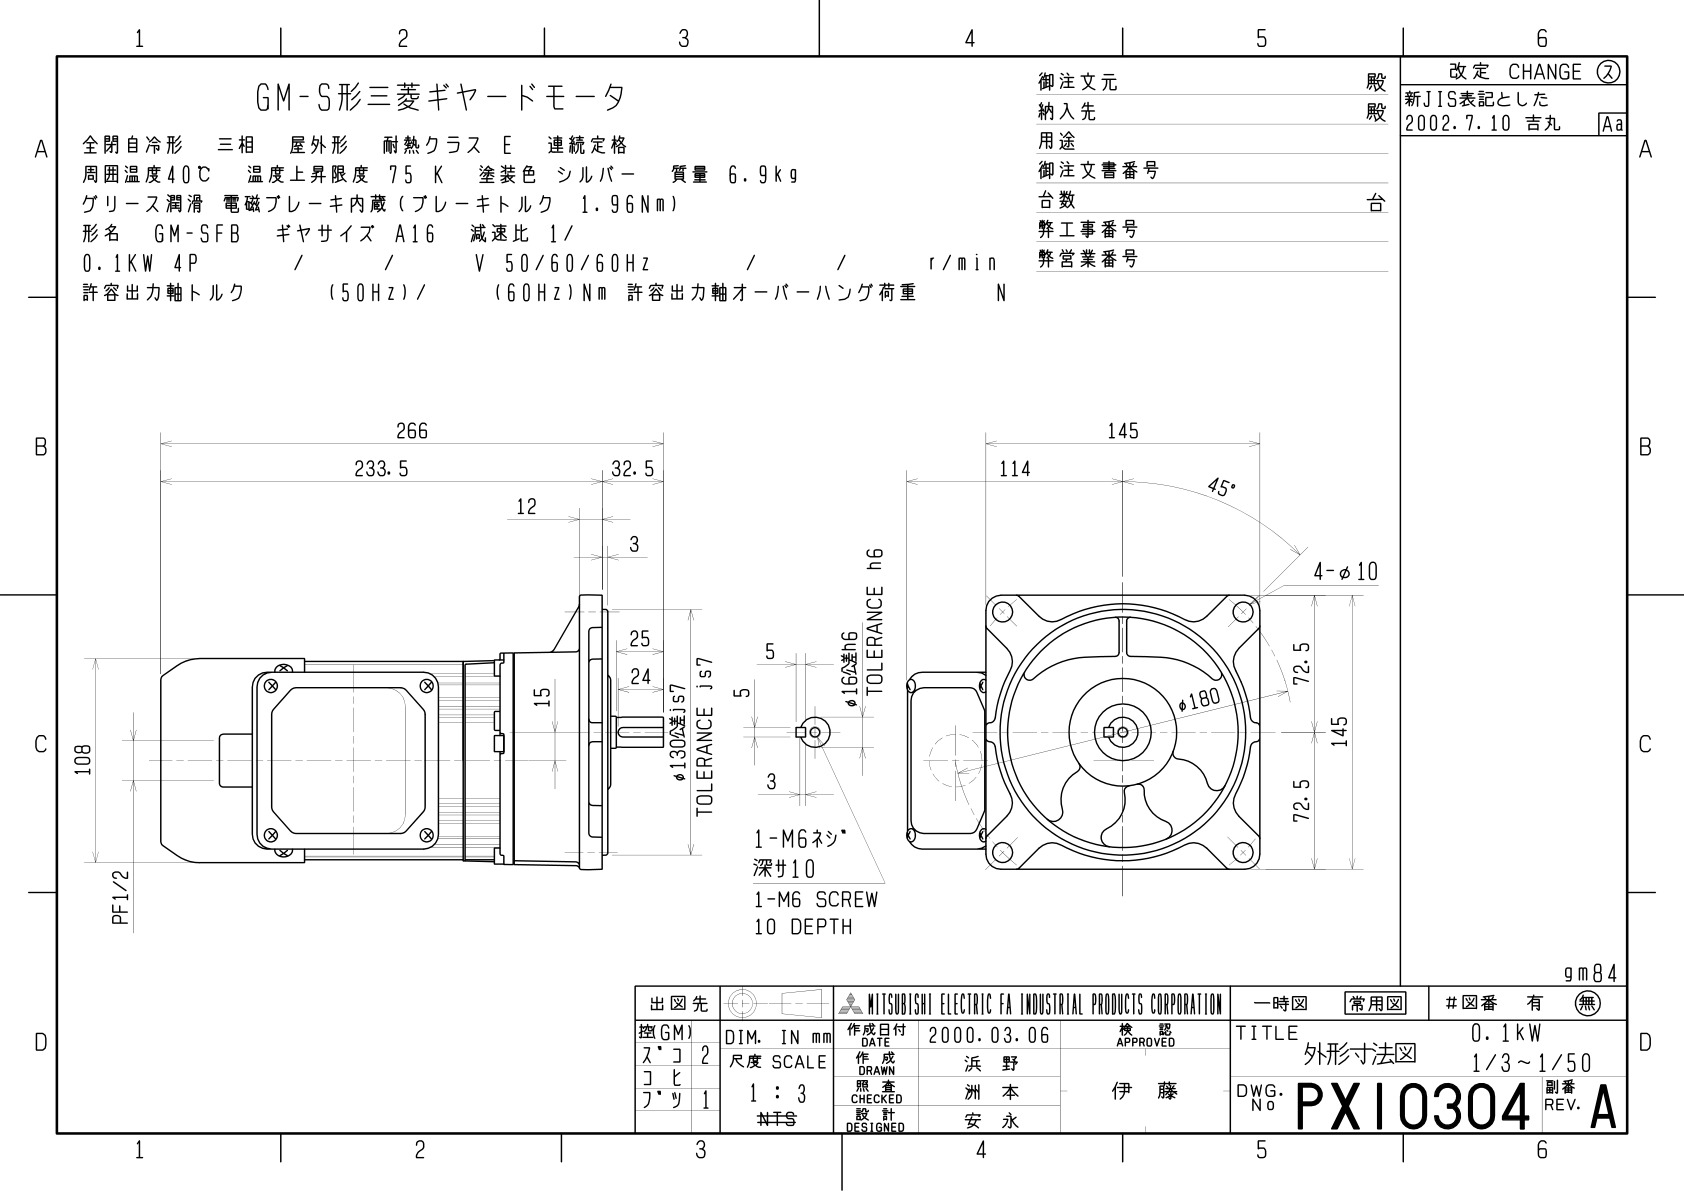GM_S_屋外＿三相_フランジ: (12, 5, 1684, 1191)
